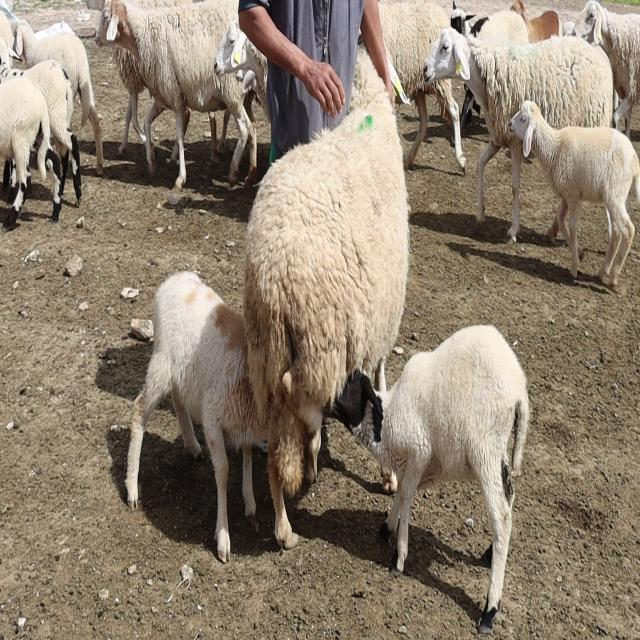Score_5: (243, 53, 409, 548)
